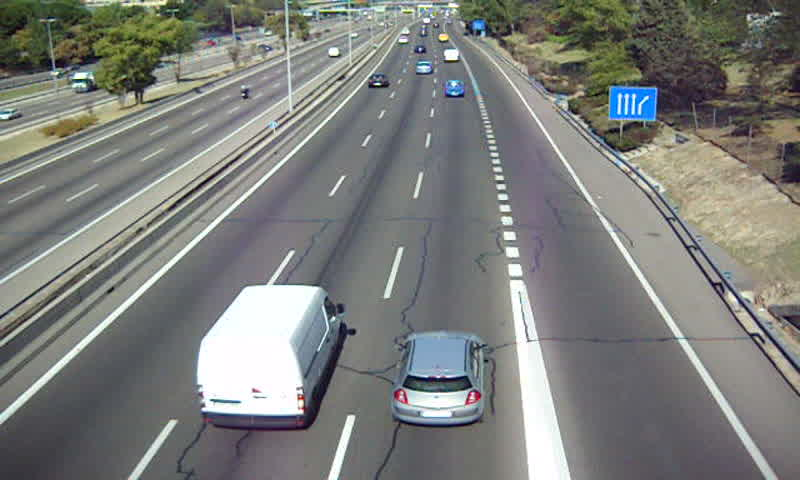car: (392, 332, 483, 424), (443, 79, 466, 97), (365, 74, 390, 90), (414, 60, 432, 75)
van: (196, 284, 344, 426), (442, 49, 460, 64)
